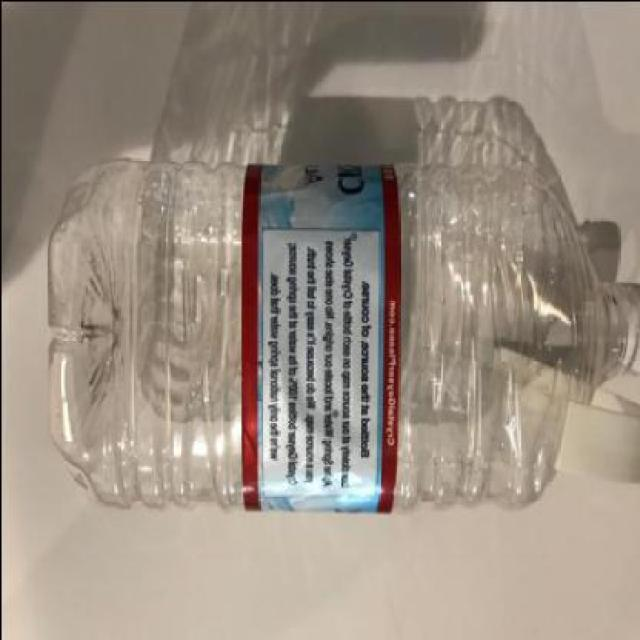PLASTIC: (49, 156, 638, 507), (242, 161, 402, 508)
